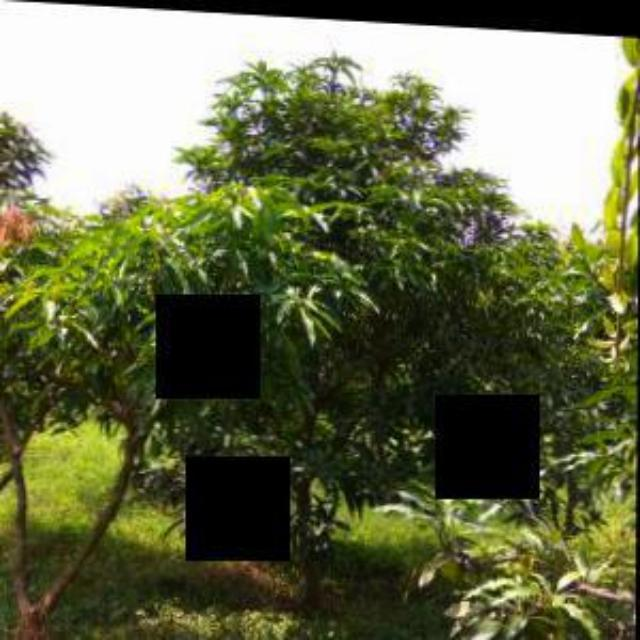tree: (194, 47, 634, 618), (0, 181, 214, 631)
